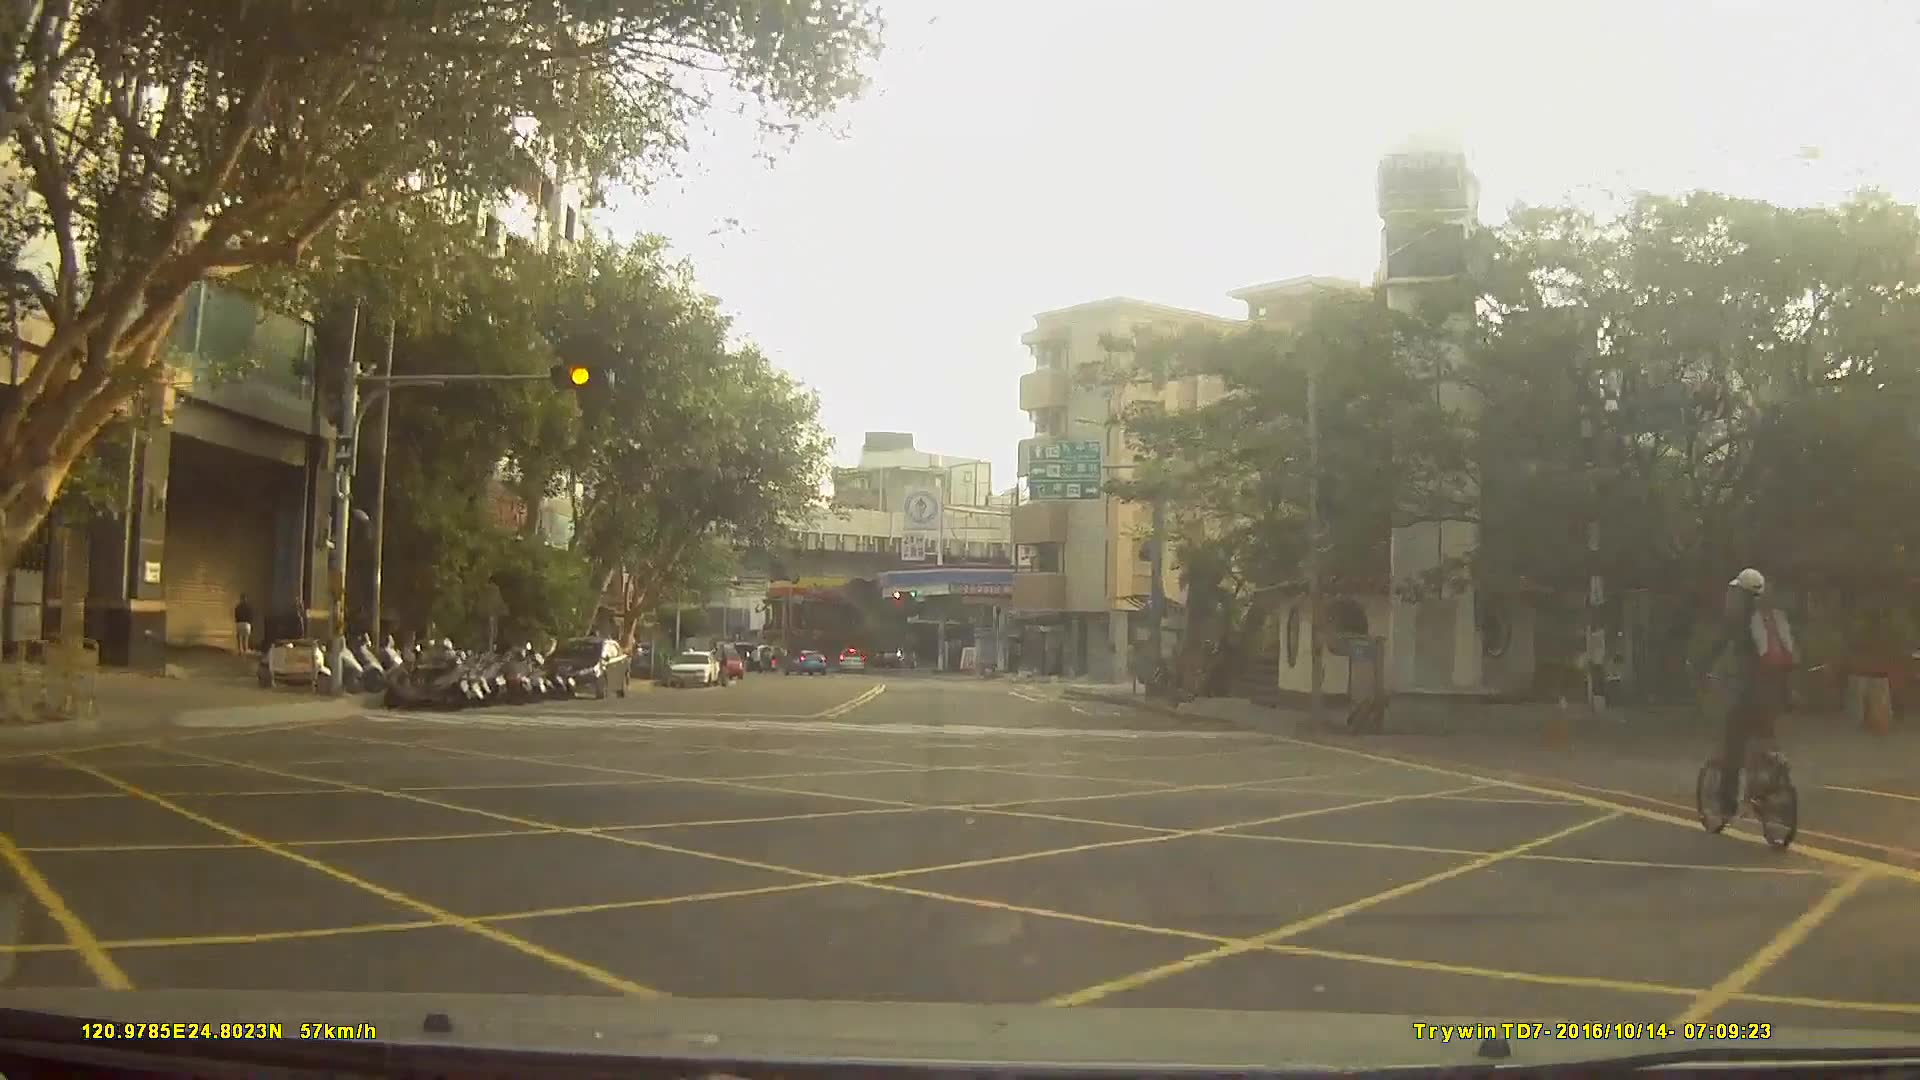pedestrian: (235, 587, 256, 655)
rider: (1689, 571, 1808, 852)
vehicle: (1788, 632, 1920, 709), (540, 634, 628, 697), (665, 646, 718, 685), (702, 645, 745, 681), (784, 646, 824, 675), (836, 643, 866, 671)
